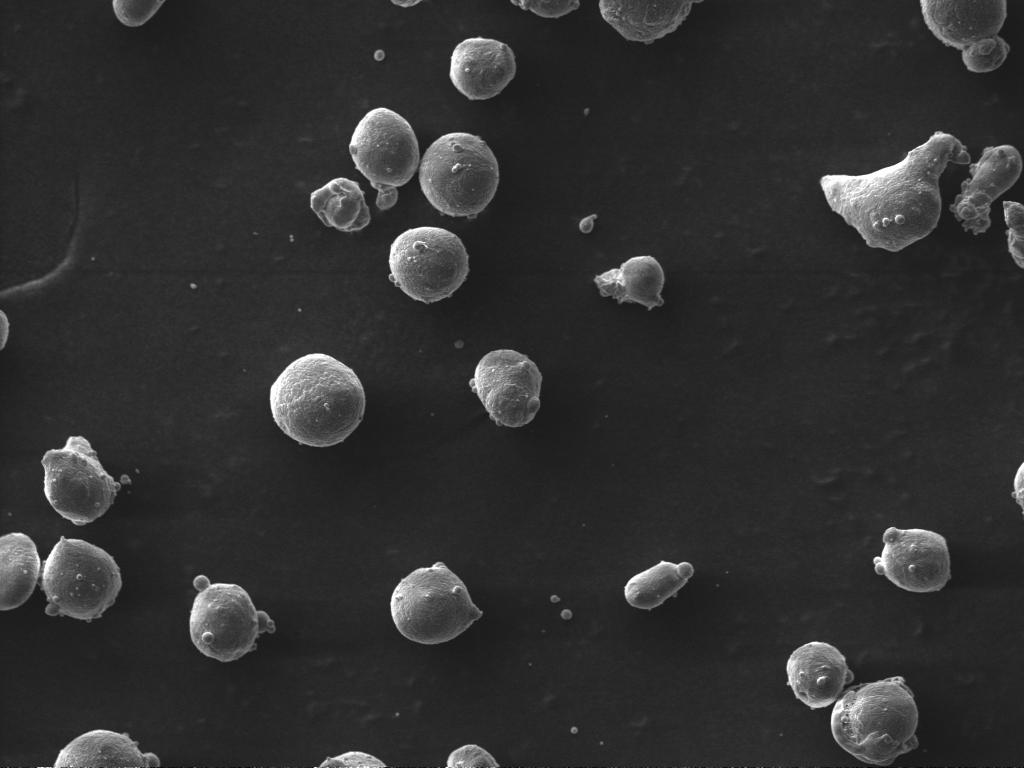Powder: (820, 134, 968, 251), (272, 354, 366, 446), (832, 676, 918, 765), (390, 562, 482, 644), (190, 576, 276, 662), (350, 108, 420, 210), (42, 436, 120, 525), (42, 536, 122, 621), (418, 132, 498, 215), (950, 146, 1024, 233), (921, 0, 1010, 71), (390, 226, 468, 303), (470, 350, 542, 427), (874, 528, 950, 591), (788, 642, 854, 707), (600, 1, 700, 43), (54, 730, 160, 768), (450, 38, 514, 99), (594, 256, 664, 309), (624, 562, 694, 610), (310, 178, 370, 232), (0, 532, 40, 609), (113, 0, 164, 27), (446, 744, 498, 768), (1005, 202, 1024, 267), (510, 1, 580, 18), (320, 752, 386, 768), (1012, 462, 1024, 513), (578, 214, 598, 234), (0, 310, 10, 349), (390, 1, 422, 8)
